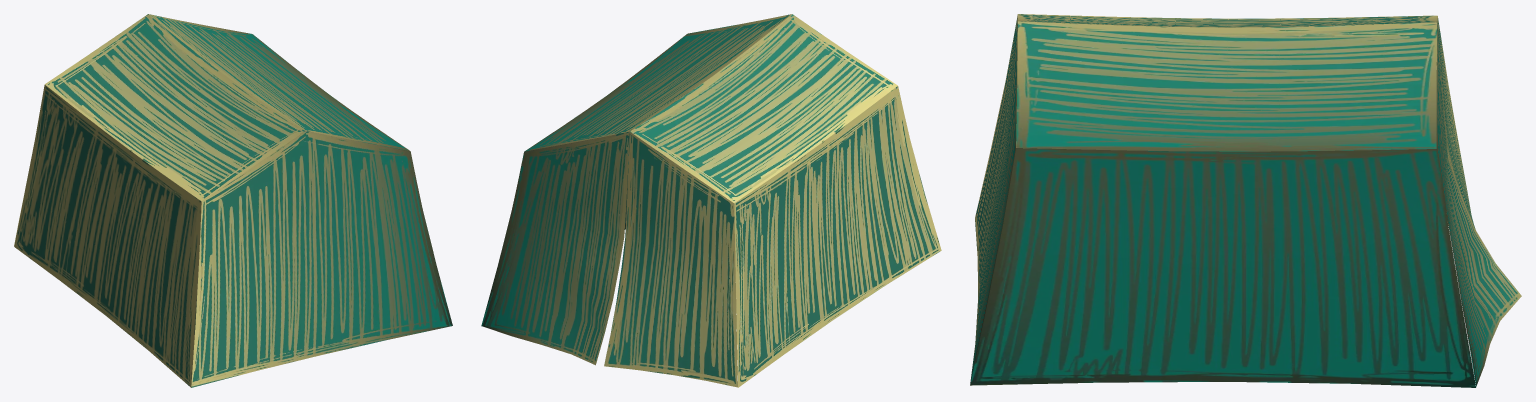
File: tent2_2024.glb
3 renders of one model, left to right at view 1: azimuth 30°, elevation 25°; view 2: azimuth 150°, elevation 25°; view 3: azimuth 270°, elevation 25°, orthographic. The views are drawn at different scales.
Visible parts, largest first — view 1: Tent2_2024; view 2: Tent2_2024; view 3: Tent2_2024.
Boxes of the visible parts, bbox=[...] form: Tent2_2024: bbox=[14, 14, 452, 387]; Tent2_2024: bbox=[481, 14, 941, 387]; Tent2_2024: bbox=[970, 14, 1521, 387].
Size of the model in its own units: 3.83 by 2.96 by 5.27.
Materials: 1 (1 with a texture image).
